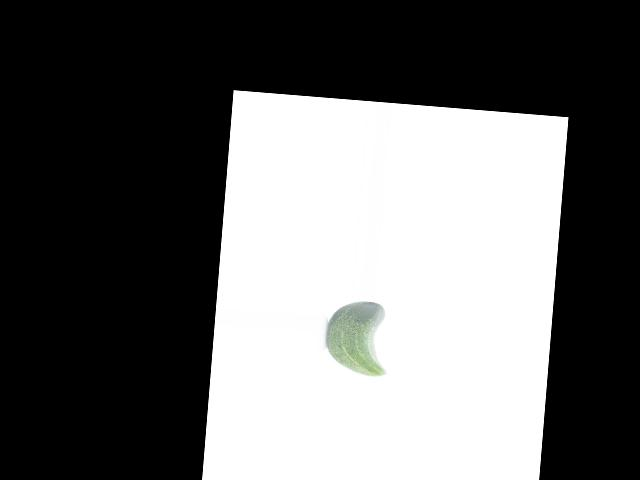cucumber: (323, 298, 391, 378)
